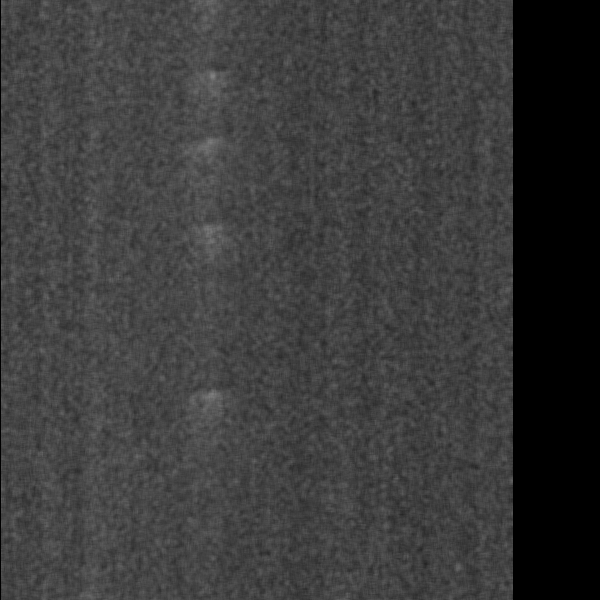spark: (84, 247, 187, 332), (427, 90, 497, 155), (356, 288, 386, 326), (5, 104, 31, 144)
